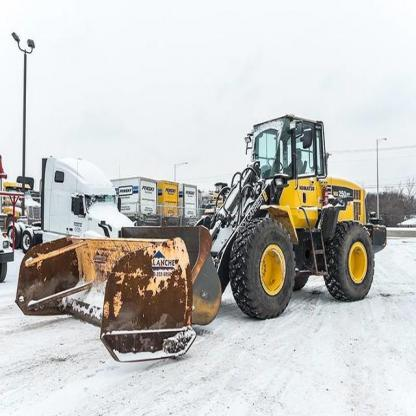bull_dozer/loader/grader: (111, 105, 395, 335)
